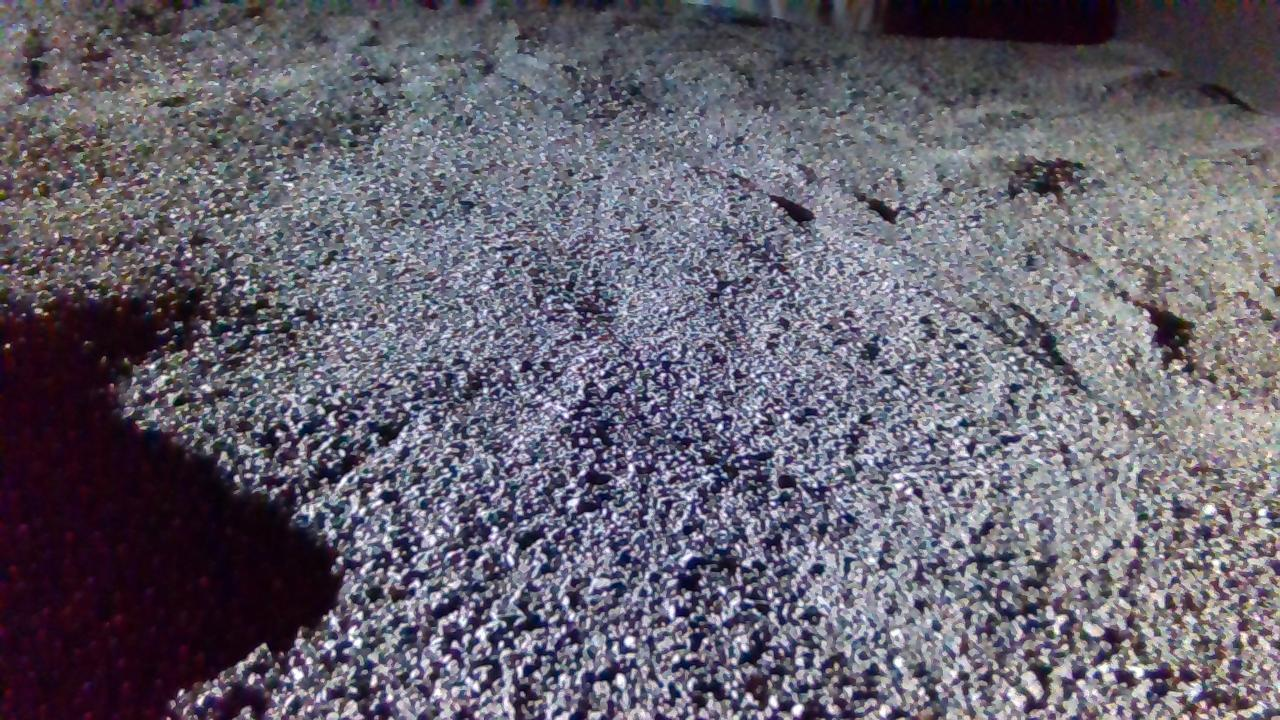rock: (688, 0, 877, 29)
